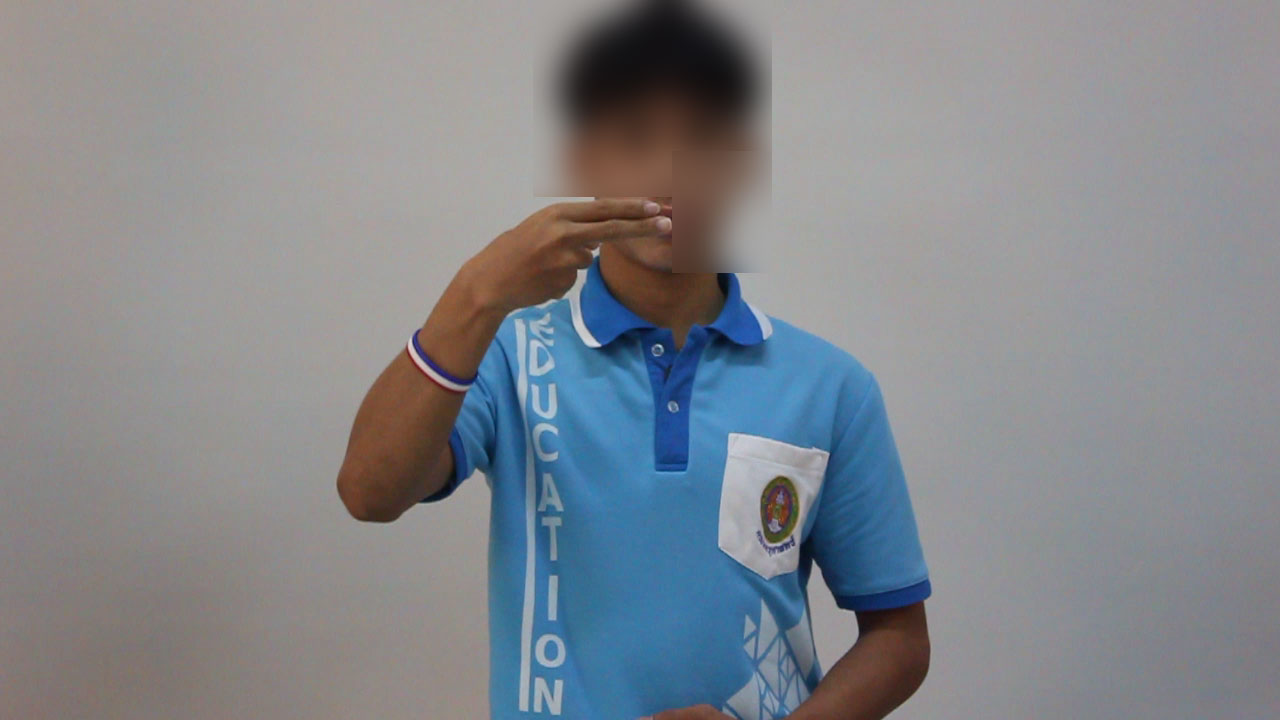hor: (449, 185, 684, 326)
